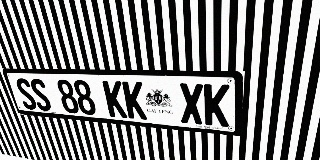8: (55, 79, 80, 114), (72, 80, 97, 115)
K: (204, 84, 230, 127), (122, 81, 147, 120), (102, 81, 128, 118)
S: (28, 78, 53, 112), (14, 78, 39, 110)
X: (179, 83, 204, 125)
